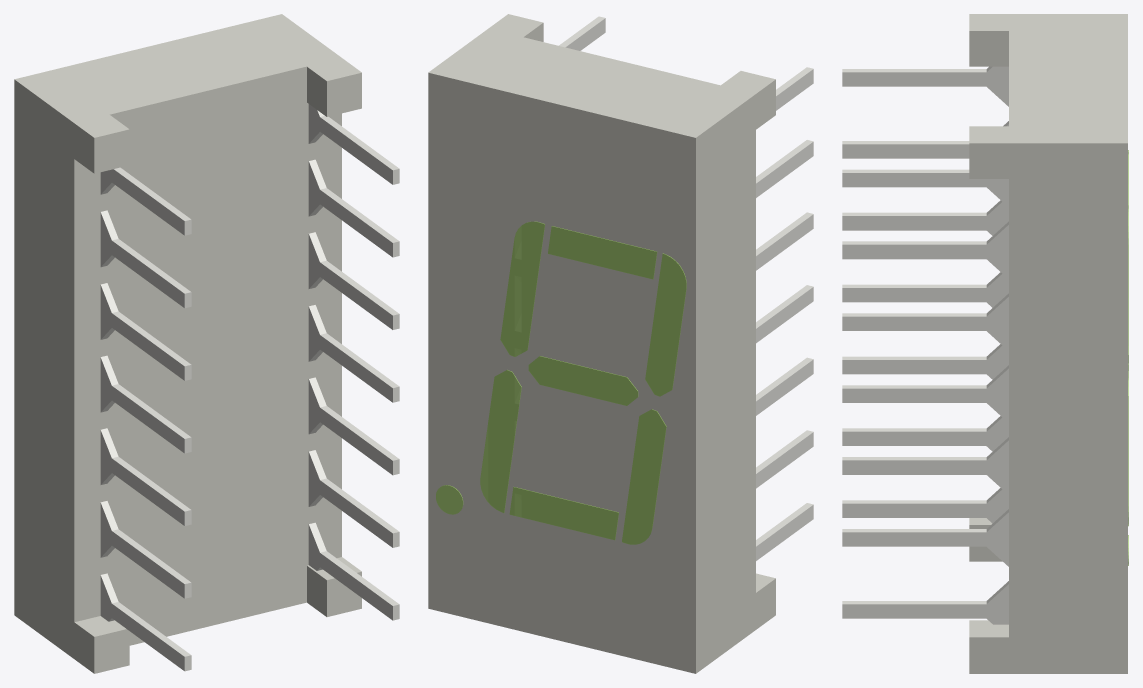
Rendered from MAN3420A.glb.
3 renders of one model, left to right at view 1: azimuth 30°, elevation 25°; view 2: azimuth 150°, elevation 25°; view 3: azimuth 270°, elevation 25°, orthographic.
Visible parts, largest first — view 1: Shape_IndexedFaceSet.010, Shape_IndexedFaceSet.006, Shape_IndexedFaceSet, Shape_IndexedFaceSet.012, Shape_IndexedFaceSet.065, Shape_IndexedFaceSet.003, Shape_IndexedFaceSet.069, Shape_IndexedFaceSet.014, Shape_IndexedFaceSet.005, Shape_IndexedFaceSet.001, Shape_IndexedFaceSet.194, Shape_IndexedFaceSet.197 (+16 smaller); view 2: Shape_IndexedFaceSet.007, Shape_IndexedFaceSet.006, Shape_IndexedFaceSet, Shape_IndexedFaceSet.132, Shape_IndexedFaceSet.130, Shape_IndexedFaceSet.134, Shape_IndexedFaceSet.128, Shape_IndexedFaceSet.131, Shape_IndexedFaceSet.133, Shape_IndexedFaceSet.129, Shape_IndexedFaceSet.209, Shape_IndexedFaceSet.194 (+6 smaller); view 3: Shape_IndexedFaceSet.008, Shape_IndexedFaceSet, Shape_IndexedFaceSet.243, Shape_IndexedFaceSet.227, Shape_IndexedFaceSet.196, Shape_IndexedFaceSet.216, Shape_IndexedFaceSet.229, Shape_IndexedFaceSet.204, Shape_IndexedFaceSet.207, Shape_IndexedFaceSet.211, Shape_IndexedFaceSet.239, Shape_IndexedFaceSet.191 (+21 smaller).
Boxes of the visible parts, x1,y1,x2,y2 form: Shape_IndexedFaceSet.010: (109,102,306,608); Shape_IndexedFaceSet.006: (14,79,94,673); Shape_IndexedFaceSet: (15,14,361,137); Shape_IndexedFaceSet.012: (74,159,109,622); Shape_IndexedFaceSet.065: (307,103,341,565); Shape_IndexedFaceSet.003: (110,66,306,145); Shape_IndexedFaceSet.069: (129,565,306,645); Shape_IndexedFaceSet.014: (94,629,129,673); Shape_IndexedFaceSet.005: (94,129,129,173); Shape_IndexedFaceSet.001: (327,72,361,116); Shape_IndexedFaceSet.194: (112,604,184,670); Shape_IndexedFaceSet.197: (112,241,184,307); Shape_IndexedFaceSet.007: (428,72,695,673); Shape_IndexedFaceSet.006: (696,79,775,673); Shape_IndexedFaceSet: (428,14,775,137); Shape_IndexedFaceSet.132: (645,254,686,396); Shape_IndexedFaceSet.130: (622,409,666,544); Shape_IndexedFaceSet.134: (480,370,521,512); Shape_IndexedFaceSet.128: (500,221,544,356); Shape_IndexedFaceSet.131: (548,226,656,279); Shape_IndexedFaceSet.133: (509,487,618,540); Shape_IndexedFaceSet.129: (528,356,637,405); Shape_IndexedFaceSet.209: (756,287,813,343); Shape_IndexedFaceSet.194: (756,505,813,560); Shape_IndexedFaceSet.008: (969,143,1127,673); Shape_IndexedFaceSet: (969,14,1127,143); Shape_IndexedFaceSet.243: (842,244,986,259); Shape_IndexedFaceSet.227: (842,316,986,330); Shape_IndexedFaceSet.196: (842,503,985,517); Shape_IndexedFaceSet.216: (842,431,986,445); Shape_IndexedFaceSet.229: (842,388,985,402); Shape_IndexedFaceSet.204: (842,216,986,230); Shape_IndexedFaceSet.207: (842,360,985,374); Shape_IndexedFaceSet.211: (842,288,986,302); Shape_IndexedFaceSet.239: (842,460,986,474); Shape_IndexedFaceSet.191: (842,72,986,86).
Bounding box in the file's own units: 3.86 × 7.38 × 3.61.
